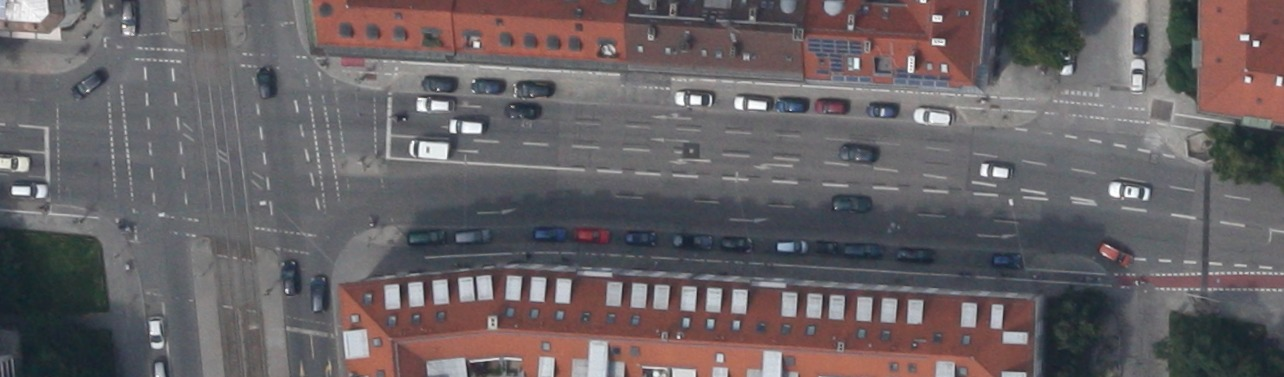car: (1097, 241, 1134, 269), (1106, 179, 1151, 202), (68, 71, 102, 100), (912, 105, 954, 125), (838, 143, 878, 163), (280, 258, 300, 295), (895, 246, 936, 264), (831, 194, 871, 212), (420, 74, 458, 92), (513, 80, 553, 97), (672, 233, 712, 250), (415, 96, 454, 113), (255, 65, 275, 98), (406, 229, 446, 245), (504, 102, 541, 119), (844, 243, 883, 259), (574, 227, 609, 244), (470, 77, 503, 95), (719, 235, 752, 253), (978, 162, 1012, 179), (310, 276, 326, 312), (448, 118, 484, 134), (10, 184, 48, 199), (674, 91, 712, 106), (865, 100, 898, 117), (732, 95, 769, 110), (120, 1, 136, 35), (532, 226, 566, 242), (774, 238, 808, 254), (454, 228, 490, 243), (992, 252, 1022, 270), (815, 98, 848, 114), (1129, 58, 1145, 91), (776, 96, 808, 112), (1058, 42, 1074, 74), (624, 230, 656, 246), (148, 315, 163, 349), (1132, 23, 1147, 54), (813, 240, 838, 255)
